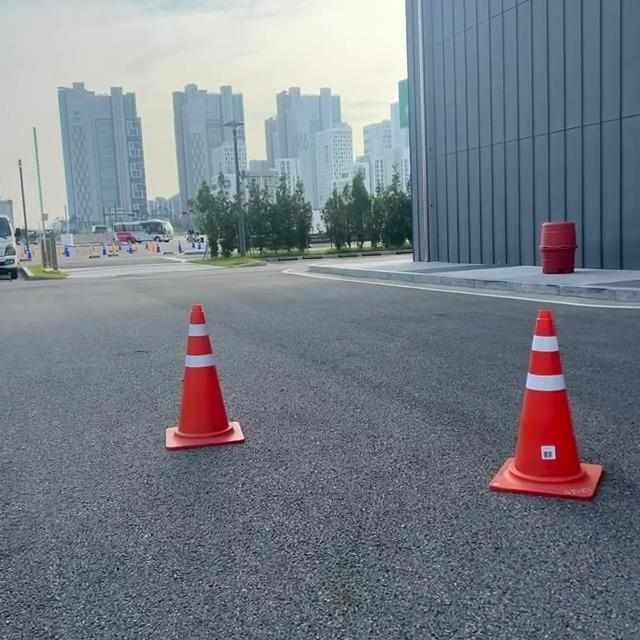fallen_object: (367, 306, 605, 525), (121, 247, 270, 491)
